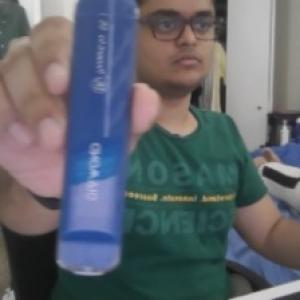Diamond-E-Ciggirate: (53, 0, 137, 279)
